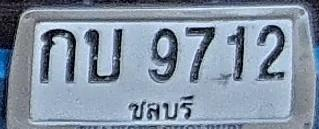1: (228, 25, 246, 81)
2: (258, 24, 286, 80)
7: (186, 26, 216, 83)
9: (149, 27, 178, 82)
A01: (40, 28, 76, 83)
A26: (84, 28, 123, 83)
CBI: (124, 91, 198, 123)
